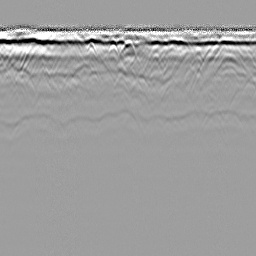cavity: (119, 37, 137, 54)
